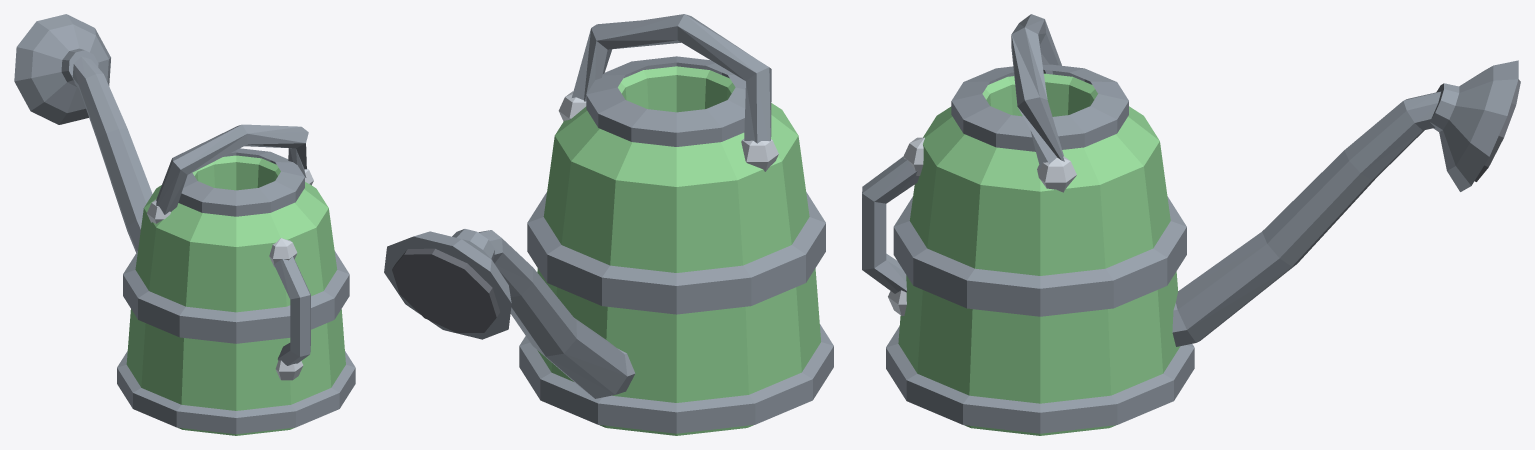
The model's file is WateringCan.fbx.
The picture shows the model from 3 angles, left to right: view 1: azimuth 30°, elevation 25°; view 2: azimuth 150°, elevation 25°; view 3: azimuth 270°, elevation 25°; orthographic projection. The views are drawn at different scales.
Parts seen in each view (by area): view 1: WateringCan.Body, WateringCan.Bands, WateringCan.RoseHead, WateringCan.Handles, WateringCan.Spout, WateringCan.Rivets; view 2: WateringCan.Body, WateringCan.Bands, WateringCan.Spout, WateringCan.Handles, WateringCan.RoseFace, WateringCan.RoseHead, WateringCan.Rivets; view 3: WateringCan.Body, WateringCan.Bands, WateringCan.Spout, WateringCan.Handles, WateringCan.RoseHead, WateringCan.Rivets.
Part boxes in pixels (<box>): WateringCan.Body: <box>126,155,345,435</box>; WateringCan.Bands: <box>117,148,355,434</box>; WateringCan.RoseHead: <box>14,14,110,124</box>; WateringCan.Handles: <box>156,124,310,365</box>; WateringCan.Spout: <box>72,56,152,252</box>; WateringCan.Rivets: <box>147,168,313,380</box>; WateringCan.Body: <box>537,66,820,435</box>; WateringCan.Bands: <box>519,56,833,433</box>; WateringCan.Spout: <box>478,230,635,398</box>; WateringCan.Handles: <box>572,14,771,143</box>; WateringCan.RoseFace: <box>392,248,499,332</box>; WateringCan.RoseHead: <box>384,229,511,339</box>; WateringCan.Rivets: <box>558,91,778,171</box>; WateringCan.Body: <box>898,73,1180,435</box>; WateringCan.Bands: <box>886,64,1194,433</box>; WateringCan.Spout: <box>1172,91,1440,346</box>; WateringCan.Handles: <box>862,14,1064,293</box>; WateringCan.RoseHead: <box>1429,60,1518,191</box>; WateringCan.Rivets: <box>888,137,1076,315</box>.
Bounding box in the file's own units: 1.6 × 2 × 3.41.
